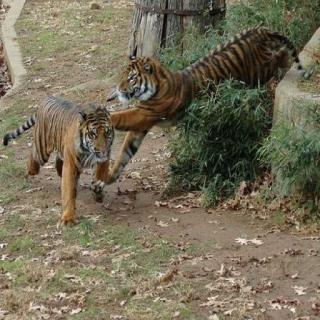Tiger: (109, 31, 320, 134), (11, 68, 121, 206)
